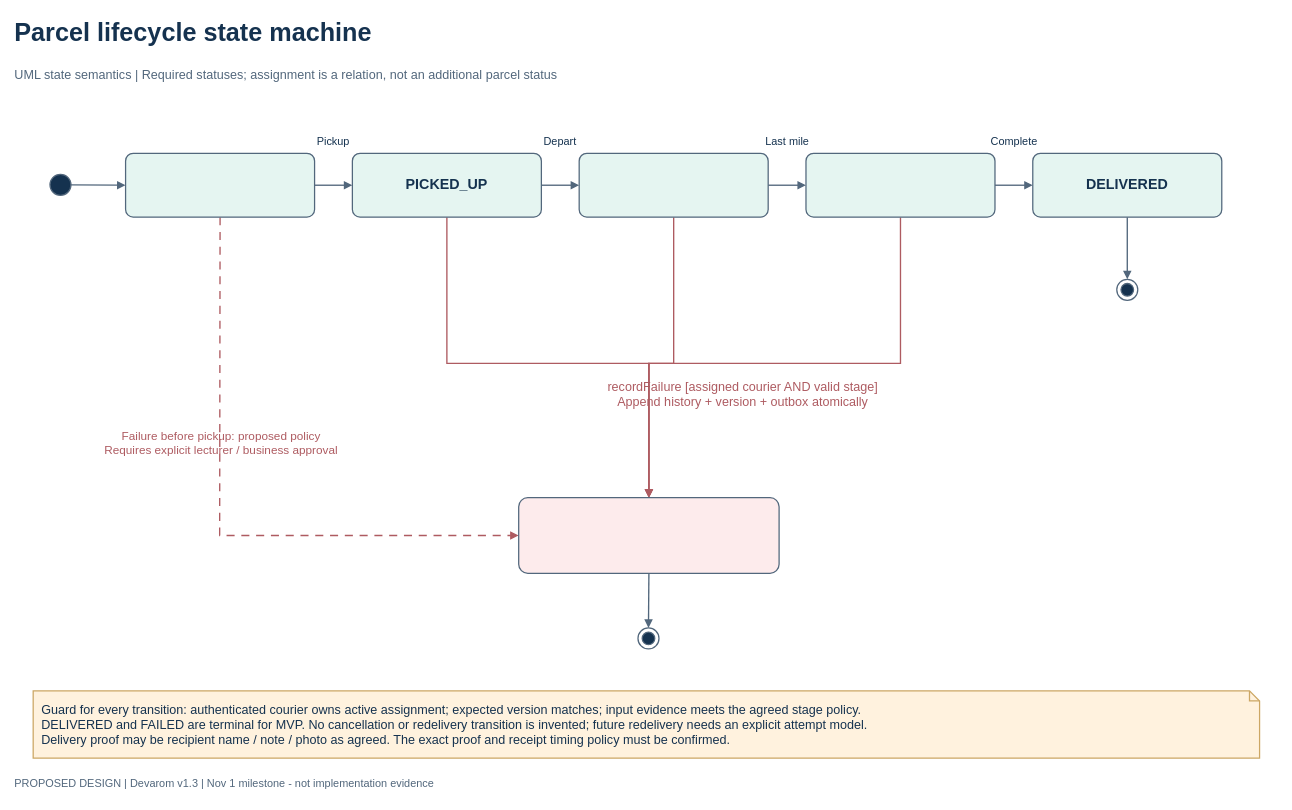
The diagram is 1292 pixels wide and 810 high, and some of its shapes have lost their labels. The shapes that lost their labels are listed below. From the top down, each one's centre as x and y in pixels, then its label:
At (x=220, y=184): "CREATED".
At (x=673, y=184): "IN_TRANSIT".
At (x=900, y=184): "OUT_FOR_DELIVERY".
At (x=648, y=535): "FAILED Failure reason mandatory".
